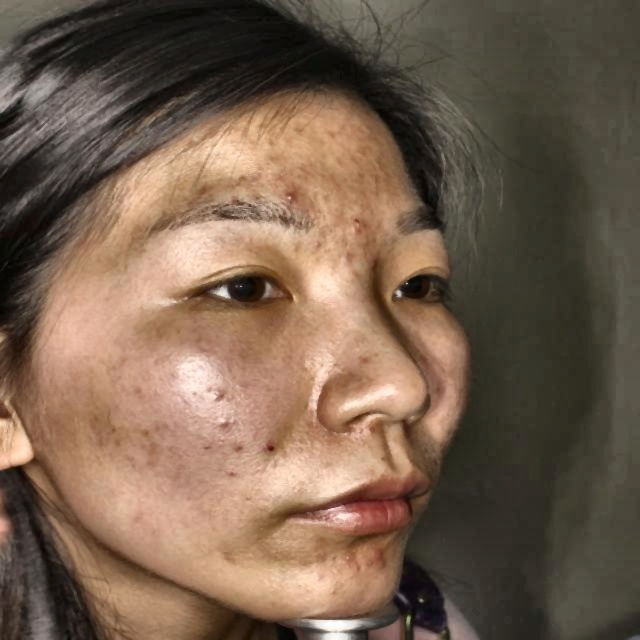comedone: (363, 537, 396, 580), (327, 536, 358, 574), (332, 205, 368, 232), (281, 178, 306, 212)
